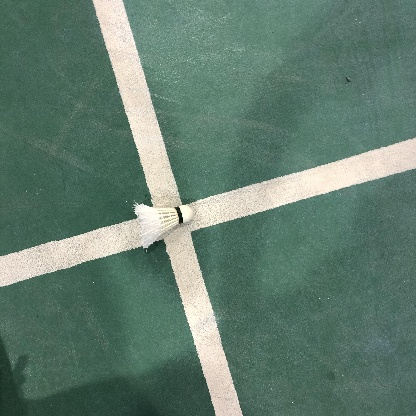ball_single: (134, 204, 193, 248)
